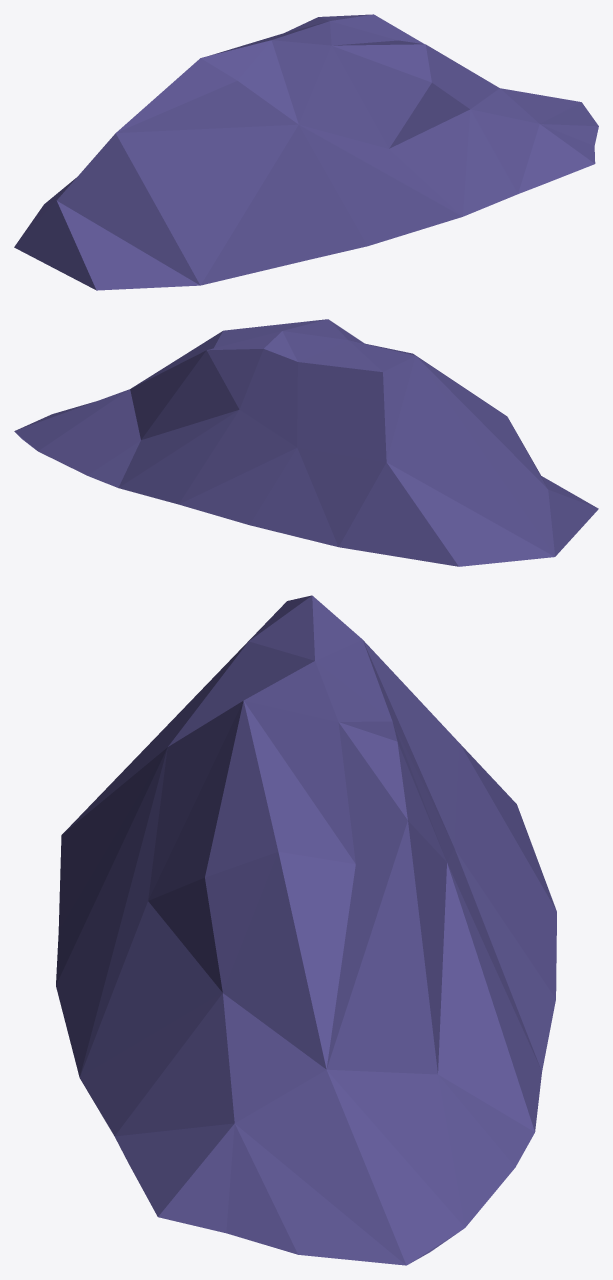
Rendered from VL_Rock03.fbx.
The picture shows the model from 3 angles, top to bottom: view 1: azimuth 30°, elevation 25°; view 2: azimuth 150°, elevation 25°; view 3: azimuth 270°, elevation 25°; orthographic projection. The views are drawn at different scales.
Visible parts, largest first — view 1: VL_Rock03; view 2: VL_Rock03; view 3: VL_Rock03.
Boxes of the visible parts, x1,y1,x2,y2 form: VL_Rock03: [14, 14, 598, 290]; VL_Rock03: [14, 319, 598, 566]; VL_Rock03: [56, 595, 556, 1265].
Bounding box in the file's own units: 464 × 125 × 188.
1 material, 1 textured.
